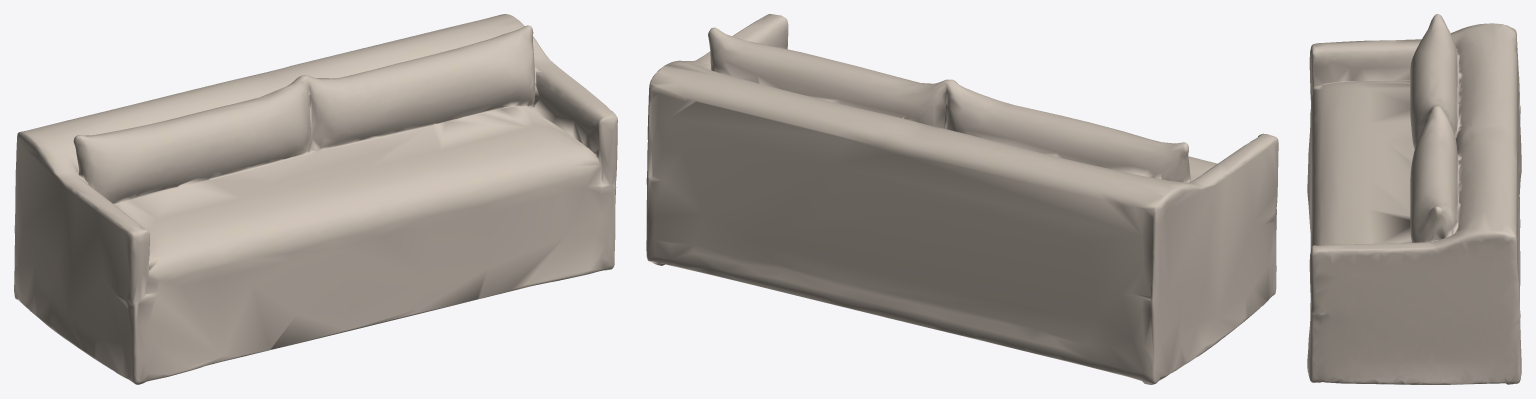
The model's file is furnimesh-sofa.glb.
3 renders of one model, left to right at view 1: azimuth 30°, elevation 25°; view 2: azimuth 150°, elevation 25°; view 3: azimuth 270°, elevation 25°, orthographic. The views are drawn at different scales.
Parts seen in each view (by area): view 1: sofa-normalized; view 2: sofa-normalized; view 3: sofa-normalized.
Part boxes in pixels (x1=…): sofa-normalized: x1=14, y1=14, x2=617, y2=384; sofa-normalized: x1=646, y1=14, x2=1278, y2=384; sofa-normalized: x1=1307, y1=14, x2=1521, y2=384.
Bounding box in the file's own units: 2.16 × 0.8399 × 0.9199.
Materials: 1 (1 with a texture image).
